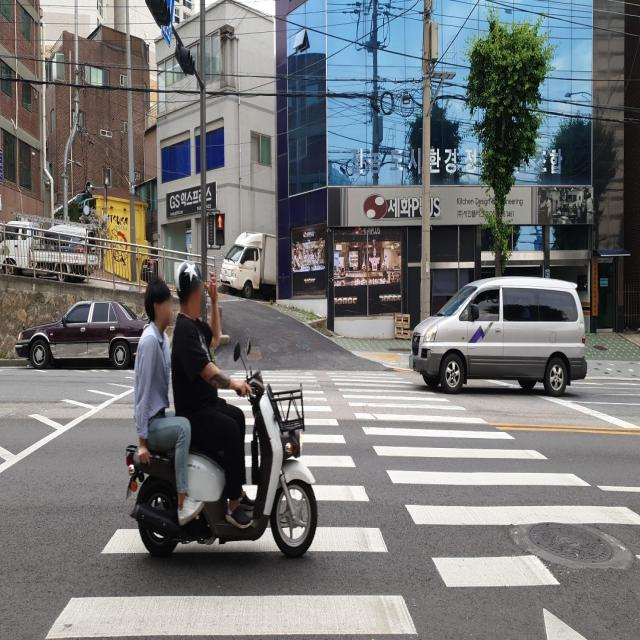빨간불: (207, 212, 226, 247)
횡단보도: (45, 366, 640, 640)
